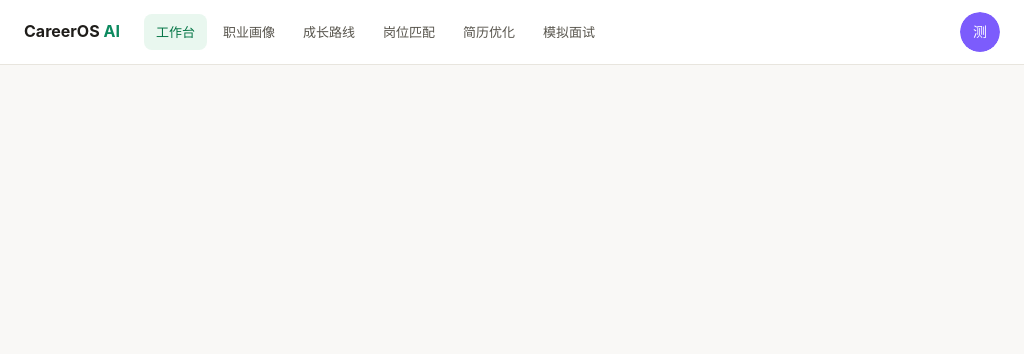
Topbar › 用户菜单外观组(6.9):三态主题切换(无 Provider 时默认跟随系统选中)
Click the button named "打开用户菜单" at (980, 32), box x1=960 y1=12 x2=1000 y2=52
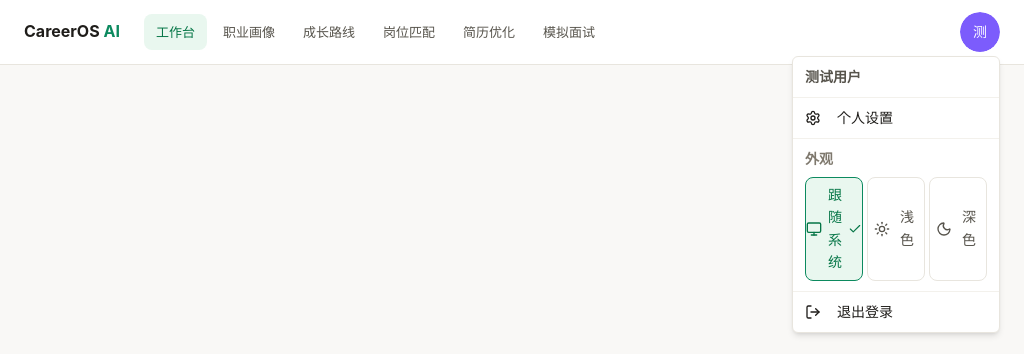
Expected: the text "外观" is shown, x1=805 y1=150 x2=833 y2=167
Expected: the number of radio buttons is 3, x1=805 y1=177 x2=863 y2=281; x1=867 y1=177 x2=925 y2=281; x1=929 y1=177 x2=987 y2=281
